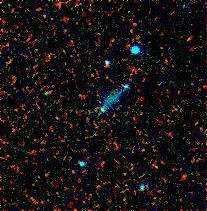star: (88, 89, 118, 119)
